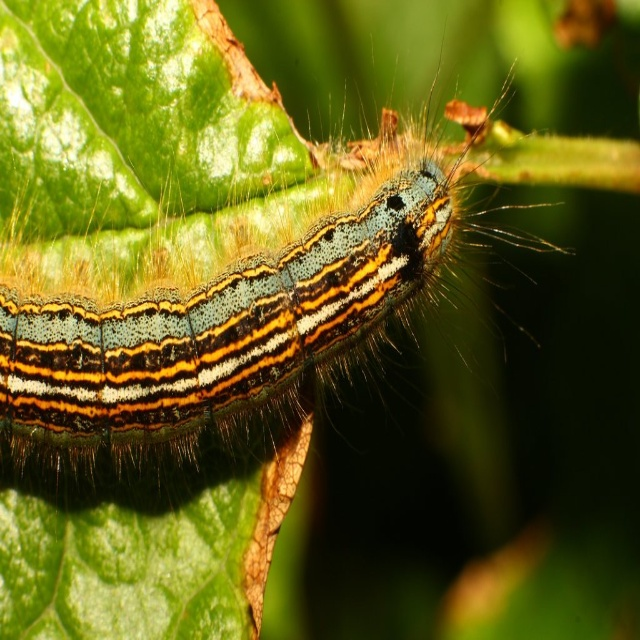Caterpillar: (0, 13, 573, 536)
